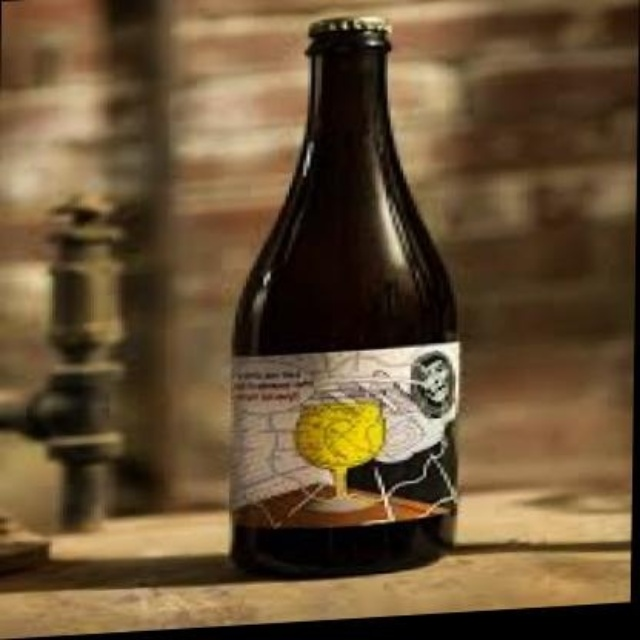trash: (231, 18, 458, 575)
